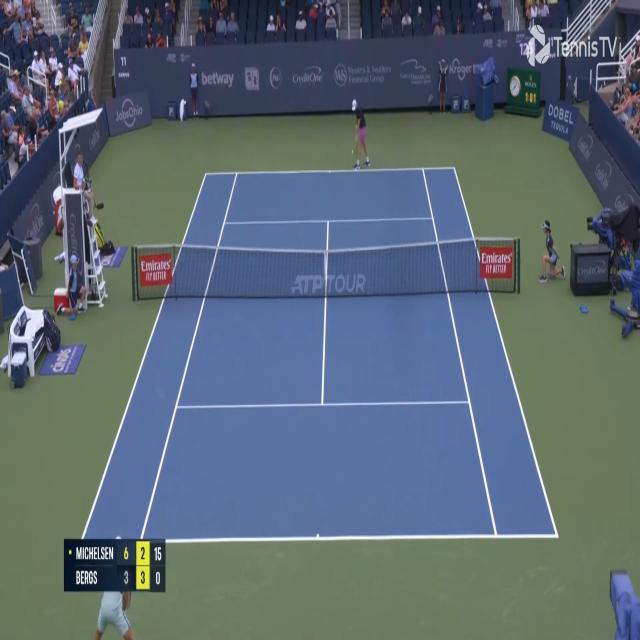tennis-player: (97, 529, 135, 640), (349, 98, 372, 172)
